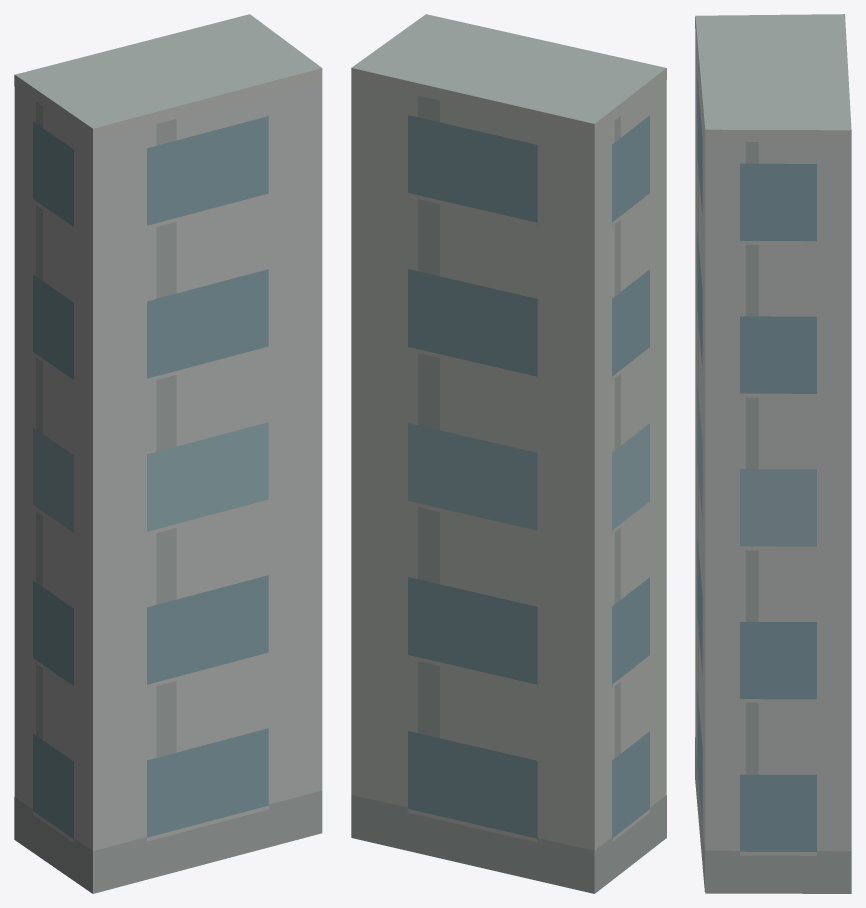
Rendered from survey-upis-32634714.glb.
The picture shows the model from 3 angles, left to right: view 1: azimuth 30°, elevation 25°; view 2: azimuth 150°, elevation 25°; view 3: azimuth 270°, elevation 25°; orthographic projection.
Parts seen in each view (by area): view 1: survey-upis-32634714.tmp; view 2: survey-upis-32634714.tmp; view 3: survey-upis-32634714.tmp.
Part boxes in pixels (left/top/right/bottom): survey-upis-32634714.tmp: left=14, top=14, right=322, bottom=893; survey-upis-32634714.tmp: left=351, top=14, right=666, bottom=893; survey-upis-32634714.tmp: left=695, top=14, right=851, bottom=893.
Size of the model in its own units: 4.99 by 15.25 by 2.84.
